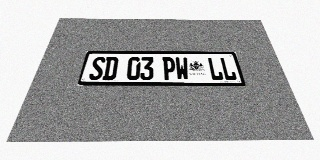0: (126, 57, 141, 80)
3: (140, 57, 153, 80)
D: (102, 57, 119, 80)
L: (219, 57, 237, 80), (207, 57, 224, 80)
P: (162, 57, 176, 80)
S: (88, 57, 106, 80)
W: (175, 57, 189, 80)
